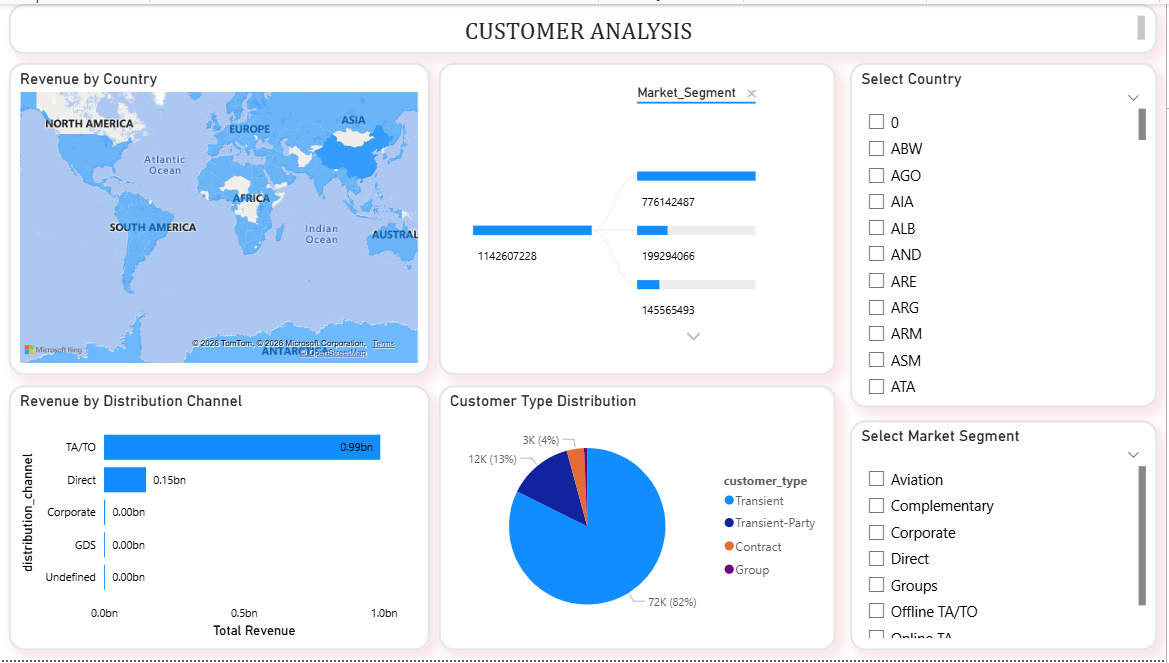

What the dashboard file says about the page in this screenshot:
{"tool":"powerbi","page":{"name":"Customer Analysis","canvas":[1280,720],"ordinal":1},"visuals":[{"type":"textbox","box":[9.6,0,1261.1,54.9],"z":0},{"type":"filledMap","title":"Revenue by Country","fields":{"Category":["hospitality_data.Country"]},"box":[9.6,64.5,462.4,343.1],"z":1000},{"type":"decompositionTreeVisual","title":"Revenue by Market Segment","fields":{"ExplainBy":["hospitality_data.Market_Segment"],"Analyze":["hospitality_data.Total Revenue"]},"box":[481.6,64.5,436.4,343.1],"z":2000},{"type":"barChart","title":"Revenue by Distribution Channel","fields":{"Category":["hospitality_data.distribution_channel"],"Y":["hospitality_data.Total Revenue"]},"box":[9.6,418.5,462.4,290.9],"z":3000},{"type":"pieChart","title":"Customer Type Distribution","fields":{"Category":["hospitality_data.customer_type"],"Y":["hospitality_data.Total Bookings"]},"box":[481.6,418.5,436.4,290.9],"z":4000},{"type":"slicer","title":"Select Market Segment","fields":{"Values":["hospitality_data.Market_Segment"]},"box":[933.1,456.9,337.6,252.5],"z":5000},{"type":"slicer","title":"Select Country","fields":{"Values":["hospitality_data.Country"]},"box":[933.1,64.5,337.6,378.7],"z":6000}]}

Visuals, with their boxes in screenshot pixels (x1, y1, x2, y2), scaled from the page's 1280x720 canvas onto the 1169x663 screenshot:
textbox: (9,0,1161,51)
"Revenue by Country" filledMap: (9,59,431,375)
"Revenue by Market Segment" decompositionTreeVisual: (440,59,838,375)
"Revenue by Distribution Channel" barChart: (9,385,431,653)
"Customer Type Distribution" pieChart: (440,385,838,653)
"Select Market Segment" slicer: (852,421,1161,653)
"Select Country" slicer: (852,59,1161,408)
